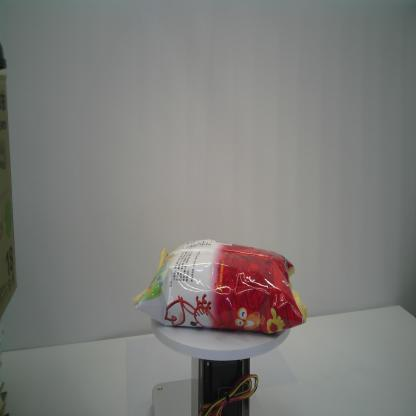Puffed Food: (130, 238, 308, 336)
